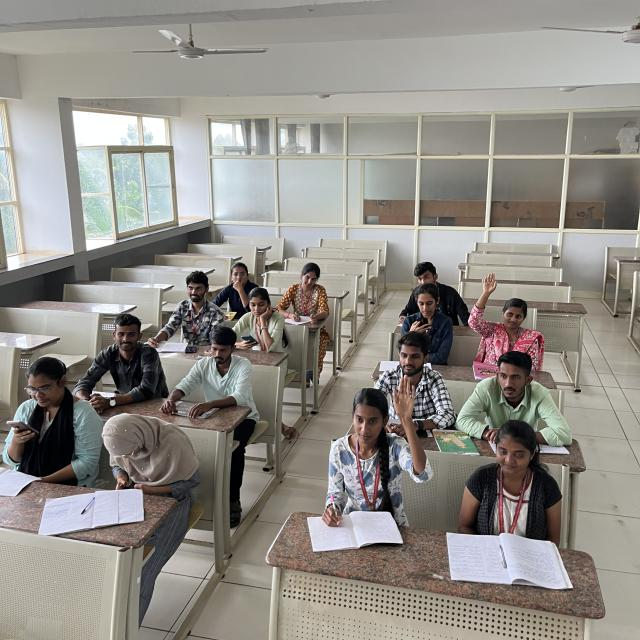Hand Rising: (328, 379, 425, 505), (468, 269, 540, 357)
Using Phone: (4, 354, 97, 479), (98, 414, 200, 496), (232, 286, 284, 351), (402, 285, 456, 343)
Writing: (275, 262, 329, 327)
